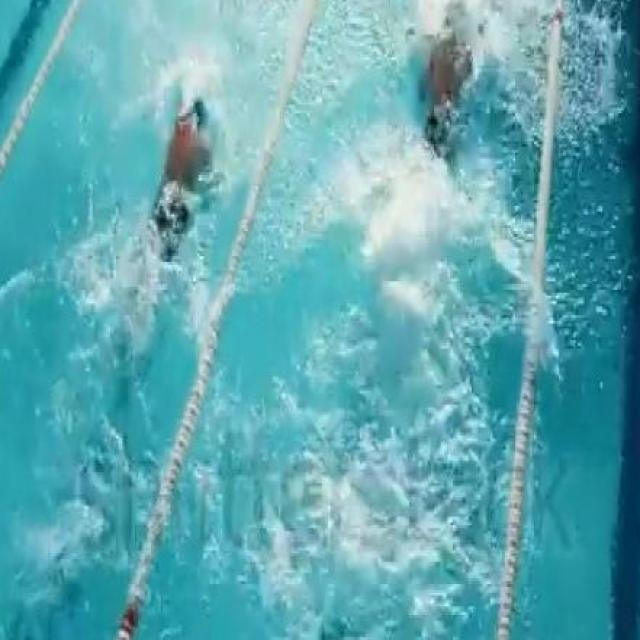Swimming: (154, 88, 212, 276), (404, 18, 480, 160)
